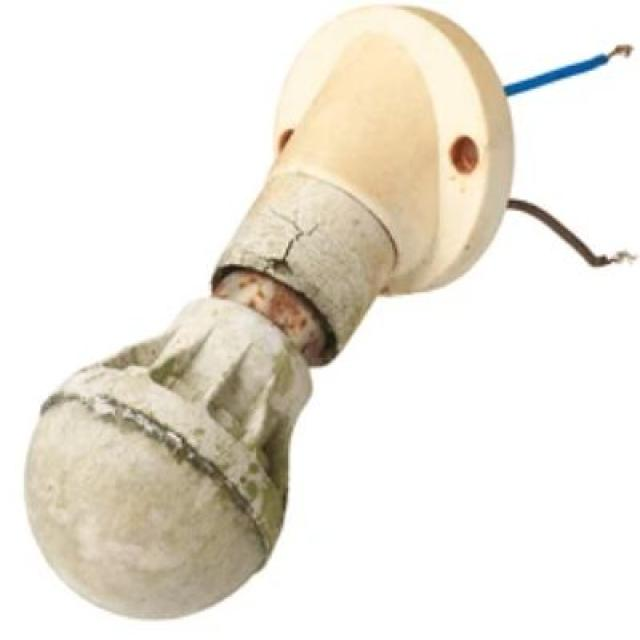electronic: (21, 0, 638, 620), (21, 292, 312, 620)
